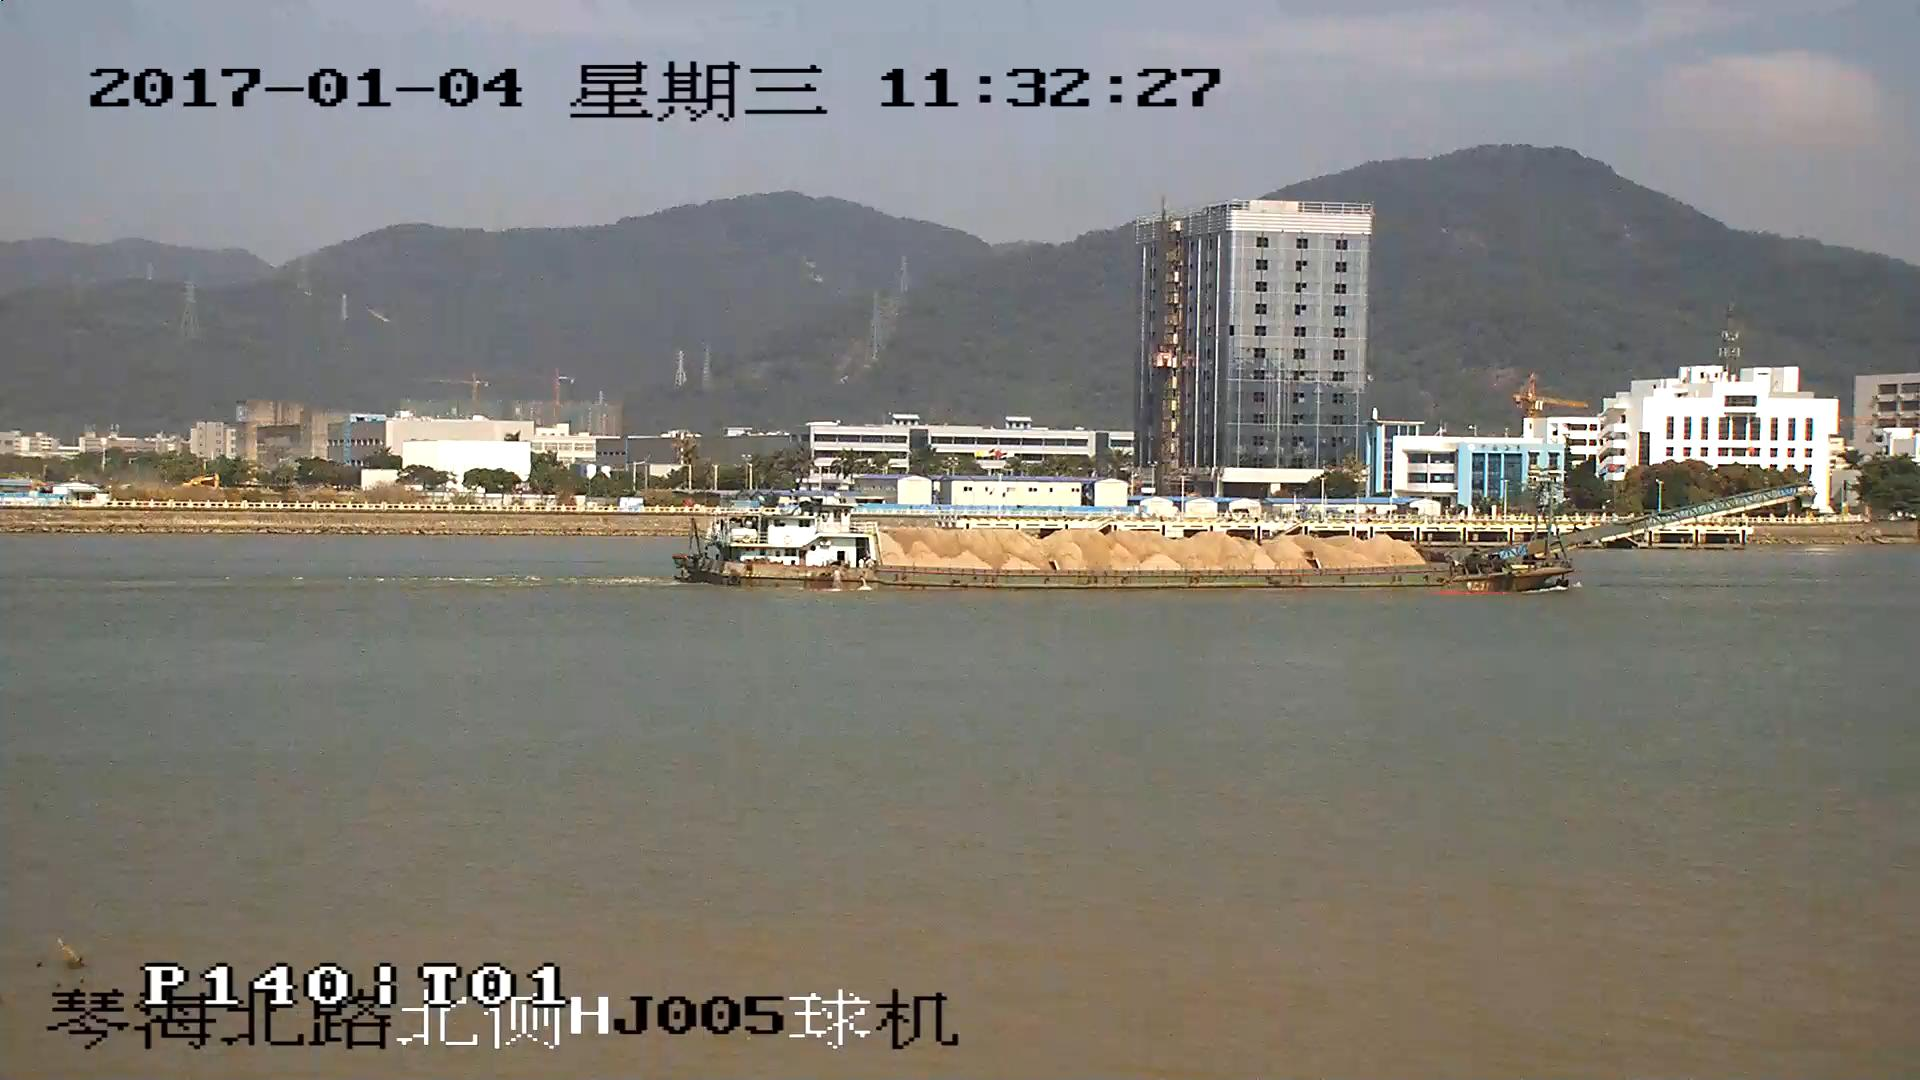ore carrier: (678, 483, 1808, 589)
